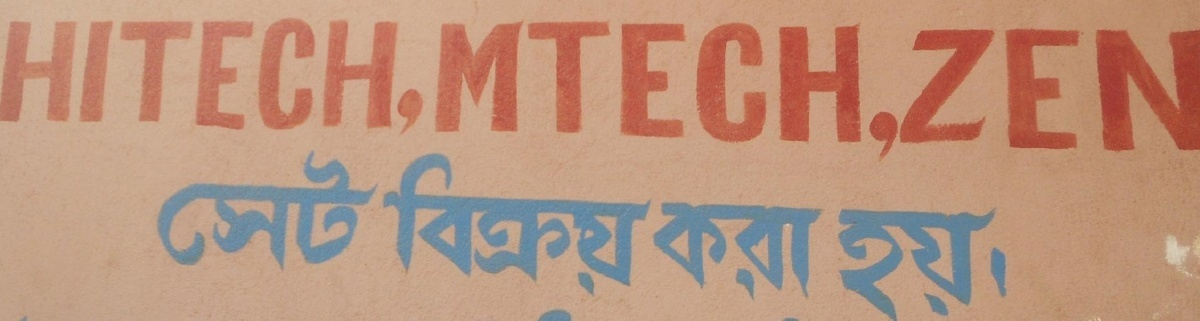text: (401, 151, 416, 303), (417, 151, 432, 303), (433, 151, 448, 303), (449, 151, 464, 303), (465, 151, 480, 303), (481, 151, 496, 303), (497, 151, 512, 303), (513, 151, 528, 303), (529, 151, 544, 303), (545, 151, 560, 303), (561, 151, 576, 303), (577, 151, 592, 303), (593, 151, 608, 303), (609, 151, 624, 303), (625, 151, 640, 303), (641, 151, 656, 303), (449, 20, 464, 163), (465, 20, 480, 163), (481, 20, 496, 163), (497, 20, 512, 163), (513, 20, 528, 163), (529, 20, 544, 163), (545, 20, 560, 163), (561, 20, 576, 163), (577, 20, 592, 163), (593, 20, 608, 163), (609, 20, 624, 163), (625, 20, 640, 163), (641, 20, 656, 163), (657, 20, 672, 163), (673, 20, 688, 163), (689, 20, 704, 163), (705, 20, 720, 163), (721, 20, 736, 163), (737, 20, 752, 163), (753, 20, 768, 163), (769, 20, 784, 163), (785, 20, 800, 163), (801, 20, 816, 163), (817, 20, 832, 163), (833, 20, 848, 163), (849, 20, 864, 163), (865, 20, 880, 163), (881, 20, 896, 163), (434, 20, 448, 163), (929, 30, 944, 151), (945, 30, 960, 151), (961, 30, 976, 151), (977, 30, 992, 151), (993, 30, 1008, 151), (1009, 30, 1024, 151), (1025, 30, 1040, 151), (1041, 30, 1056, 151), (1057, 30, 1072, 151), (1073, 30, 1088, 151), (1089, 30, 1104, 151), (1105, 30, 1120, 151), (1121, 30, 1136, 151), (1137, 30, 1152, 151), (1153, 30, 1168, 151), (1169, 30, 1184, 151), (17, 20, 32, 139), (33, 20, 48, 139), (49, 20, 64, 139), (65, 20, 80, 139), (81, 20, 96, 139), (97, 20, 112, 139), (113, 20, 128, 139), (129, 20, 144, 139), (145, 20, 160, 139), (161, 20, 176, 139), (177, 20, 192, 139), (193, 20, 208, 139), (209, 20, 224, 139), (225, 20, 240, 139), (241, 20, 256, 139), (257, 20, 272, 139), (273, 20, 288, 139), (289, 20, 304, 139), (305, 20, 320, 139), (321, 20, 336, 139), (337, 20, 352, 139), (353, 20, 368, 139), (369, 20, 384, 139), (385, 20, 400, 139), (401, 20, 416, 139), (177, 154, 192, 272), (193, 154, 208, 272), (209, 154, 224, 272), (225, 154, 240, 272), (241, 154, 256, 272), (257, 154, 272, 272), (273, 154, 288, 272), (289, 154, 304, 272), (305, 154, 320, 272), (321, 154, 336, 272), (337, 154, 352, 272), (353, 154, 368, 272), (369, 154, 384, 272), (849, 207, 864, 320), (865, 207, 880, 320), (881, 207, 896, 320), (897, 207, 912, 320), (913, 207, 928, 320), (929, 207, 944, 320), (945, 207, 960, 320), (961, 207, 976, 320), (977, 207, 992, 320), (993, 207, 1008, 320), (1185, 30, 1199, 151), (657, 197, 672, 307), (673, 197, 688, 307), (689, 197, 704, 307), (705, 197, 720, 307), (721, 197, 736, 307), (737, 197, 752, 307), (753, 197, 768, 307), (769, 197, 784, 307), (785, 197, 800, 307), (801, 197, 816, 307), (916, 30, 928, 151), (4, 20, 16, 139), (837, 207, 848, 320), (392, 151, 400, 303), (897, 20, 905, 163), (817, 197, 826, 307), (417, 20, 425, 139), (173, 154, 176, 272), (657, 151, 658, 303), (513, 311, 528, 321), (529, 311, 544, 321), (545, 311, 560, 321), (561, 311, 576, 321), (1009, 207, 1010, 320), (785, 314, 800, 321), (801, 314, 816, 321), (504, 311, 512, 321), (577, 311, 582, 321), (777, 314, 784, 321), (817, 314, 820, 321)
